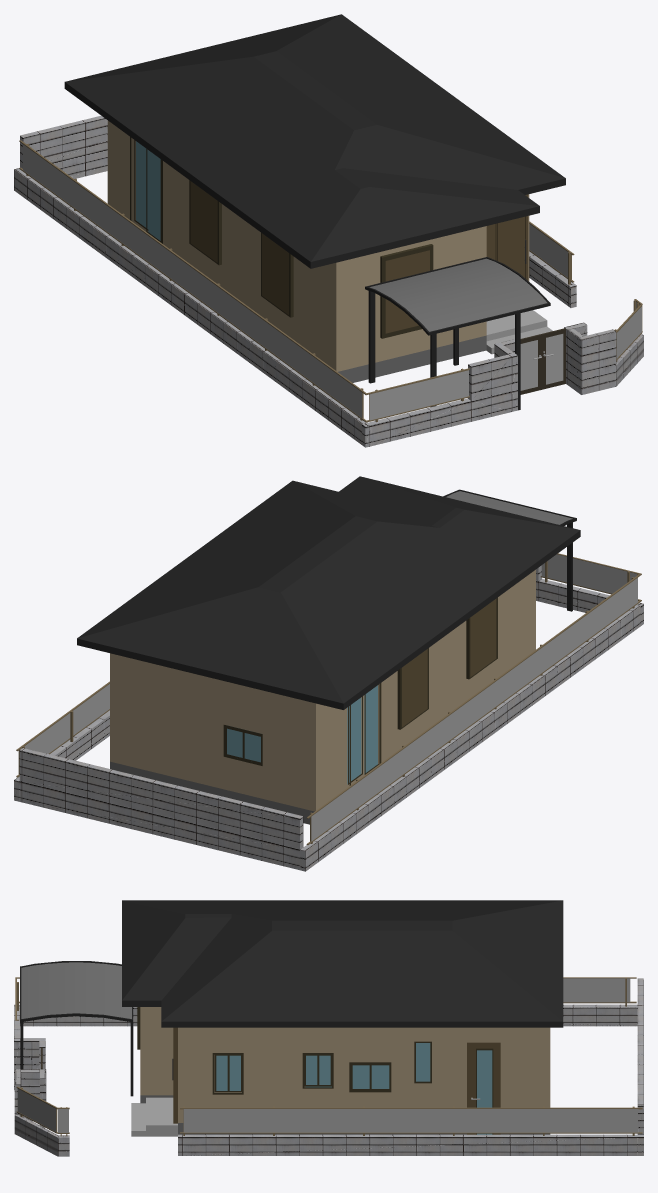
File: House_004_middle.fbx
3 renders of one model, top to bottom at view 1: azimuth 30°, elevation 25°; view 2: azimuth 150°, elevation 25°; view 3: azimuth 270°, elevation 25°, orthographic. The views are drawn at different scales.
Parts seen in each view (by area): view 1: polySurface8; view 2: polySurface8; view 3: polySurface8.
Part boxes in pixels (<box>): polySurface8: <box>14,14,643,447</box>; polySurface8: <box>14,476,643,871</box>; polySurface8: <box>14,900,643,1156</box>.
Size of the model in its own units: 936 by 465 by 1620.
Materials: 16 (1 with a texture image).
